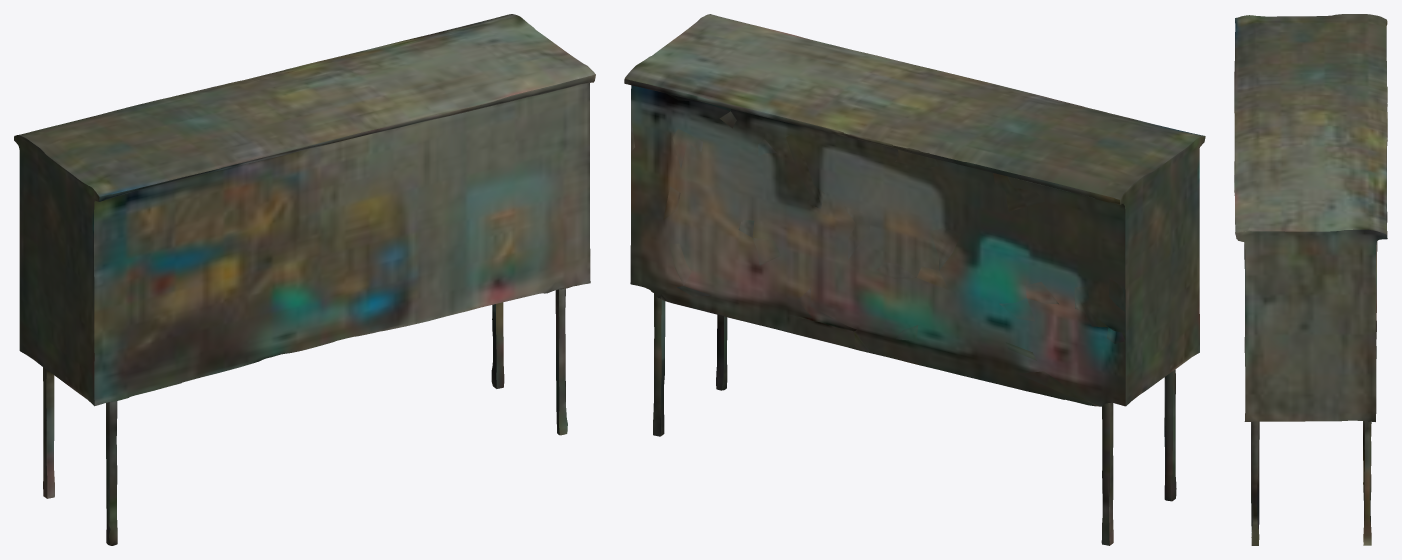
The picture shows the model from 3 angles, left to right: view 1: azimuth 30°, elevation 25°; view 2: azimuth 150°, elevation 25°; view 3: azimuth 270°, elevation 25°; orthographic projection. The views are drawn at different scales.
Parts seen in each view (by area): view 1: world; view 2: world; view 3: world.
Part boxes in pixels (left/top/right/bottom): world: left=14, top=14, right=595, bottom=545; world: left=624, top=14, right=1205, bottom=545; world: left=1234, top=14, right=1387, bottom=545.
Size of the model in its own units: 0.935 by 0.6643 by 0.2809.
Materials: 1 (1 with a texture image).
